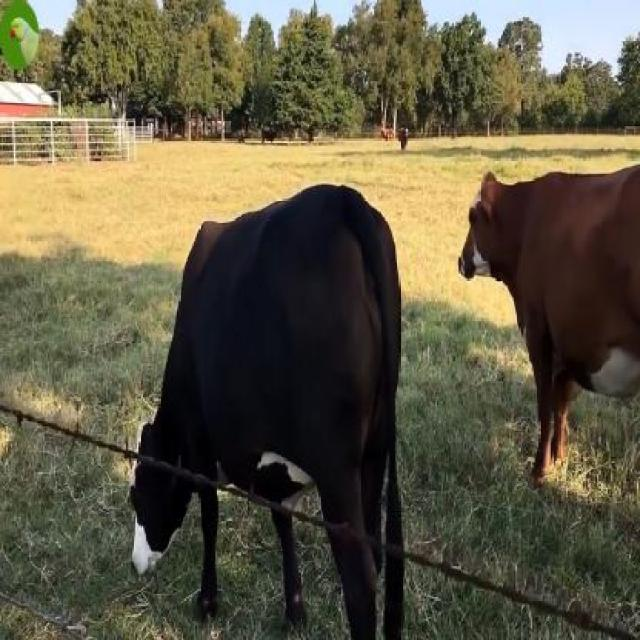Cow: (130, 182, 402, 638)
